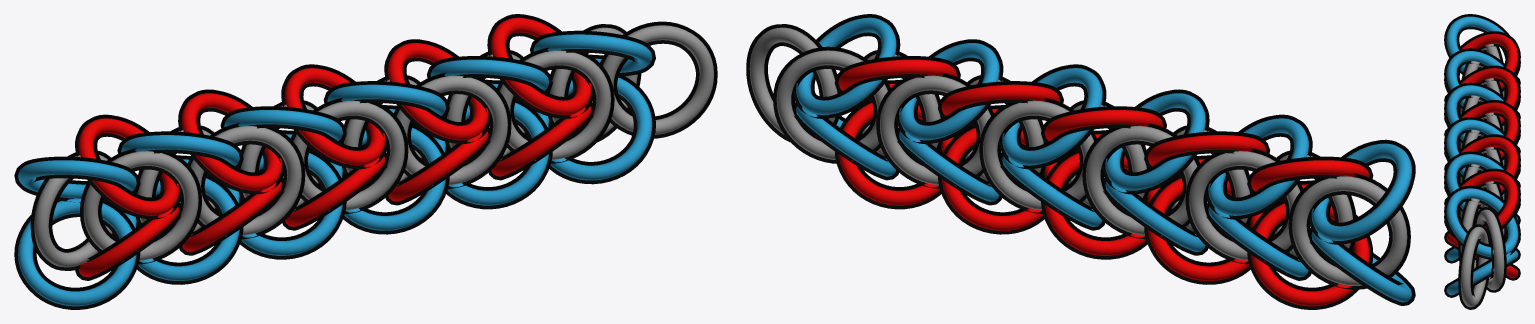
File: spinal_elf_tutorial_01.glb
3 views of the same model, side by side, from view 1: azimuth 30°, elevation 25°; view 2: azimuth 150°, elevation 25°; view 3: azimuth 270°, elevation 25° (orthographic). The views are drawn at different scales.
Visible parts, largest first — view 1: Torus.2126, Torus.2094, Torus.2096, Torus.2114, Torus.2120, Torus.2102, Torus.2108, Torus.2124, Torus.2104, Torus.2098, Torus.2122, Torus.2110 (+22 smaller); view 2: Torus.2093, Torus.2095, Torus.2123, Torus.2117, Torus.2099, Torus.2111, Torus.2105, Torus.2125, Torus.2107, Torus.2101, Torus.2113, Torus.2119 (+22 smaller); view 3: Torus.2125, Torus.2126, Torus.2123, Torus.2122, Torus.2095, Torus.2119, Torus.2101, Torus.2098, Torus.2104, Torus.2116, Torus.2113, Torus.2110 (+14 smaller).
Boxes of the visible parts, x1,y1,x2,y2 form: Torus.2126: [600, 21, 717, 138]; Torus.2094: [14, 198, 140, 309]; Torus.2096: [80, 148, 201, 264]; Torus.2114: [393, 73, 511, 188]; Torus.2120: [497, 47, 614, 163]; Torus.2102: [187, 123, 305, 239]; Torus.2108: [290, 98, 408, 213]; Torus.2124: [536, 76, 655, 184]; Torus.2104: [178, 89, 285, 194]; Torus.2098: [75, 114, 182, 219]; Torus.2122: [487, 14, 595, 118]; Torus.2110: [281, 64, 388, 169]; Torus.2093: [1288, 173, 1410, 289]; Torus.2095: [1308, 139, 1415, 244]; Torus.2123: [773, 46, 890, 163]; Torus.2117: [876, 72, 993, 188]; Torus.2099: [1185, 148, 1303, 264]; Torus.2111: [979, 98, 1096, 213]; Torus.2105: [1082, 123, 1199, 239]; Torus.2125: [792, 14, 900, 118]; Torus.2107: [1101, 89, 1209, 194]; Torus.2101: [1204, 114, 1312, 219]; Torus.2113: [998, 64, 1106, 169]; Torus.2119: [895, 39, 1003, 143]; Torus.2125: [1444, 185, 1520, 259]; Torus.2126: [1458, 224, 1490, 309]; Torus.2123: [1475, 207, 1506, 292]; Torus.2122: [1444, 168, 1520, 237]; Torus.2095: [1444, 14, 1520, 76]; Torus.2119: [1444, 151, 1520, 215]; Torus.2101: [1444, 48, 1520, 110]; Torus.2098: [1444, 31, 1520, 93]; Torus.2104: [1444, 65, 1520, 127]; Torus.2116: [1444, 134, 1520, 196]; Torus.2113: [1444, 117, 1520, 179]; Torus.2110: [1444, 100, 1520, 162].
Bounding box in the file's own units: 21.04 × 4.48 × 3.02.
